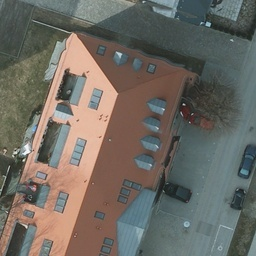car: (161, 180, 194, 204), (188, 111, 217, 132), (237, 143, 256, 174), (229, 187, 245, 211)
